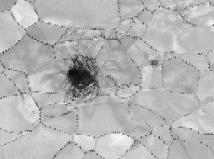good_void: (61, 54, 103, 97), (149, 59, 160, 70), (30, 109, 37, 115)
